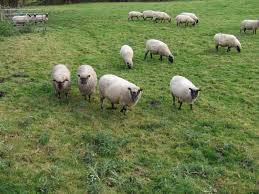sheep: (95, 71, 147, 115), (169, 72, 199, 113), (50, 63, 76, 103), (141, 37, 175, 67), (74, 63, 98, 104), (114, 40, 140, 73), (212, 32, 248, 55), (148, 8, 172, 24), (176, 10, 200, 26), (175, 16, 196, 31), (238, 19, 259, 33), (128, 8, 145, 24), (11, 12, 30, 24), (141, 8, 155, 24), (36, 11, 50, 24), (29, 14, 38, 25)
